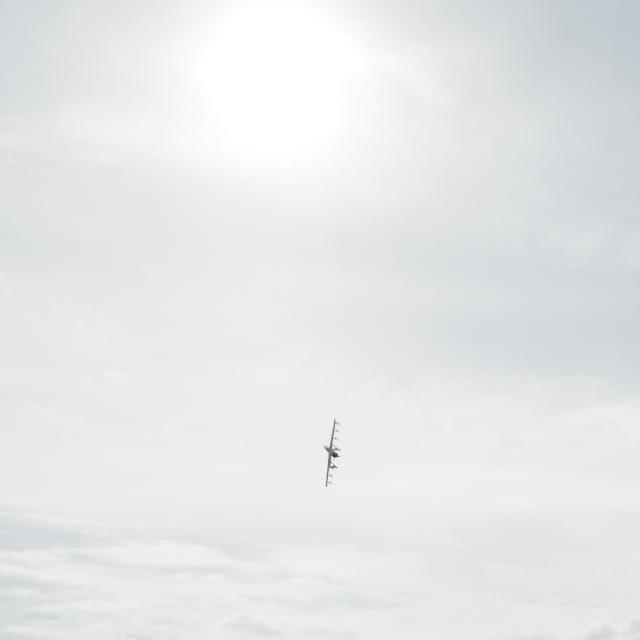Airaplan: (324, 418, 342, 487)
